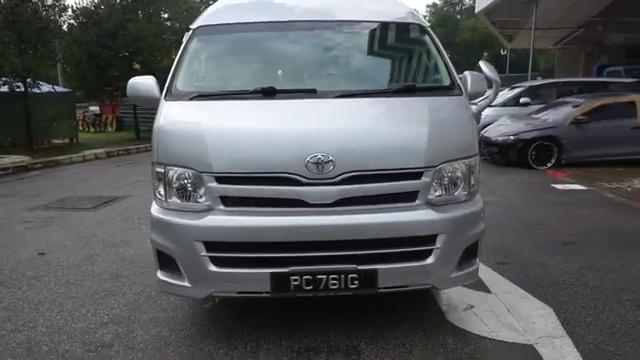van: (128, 1, 499, 328)
